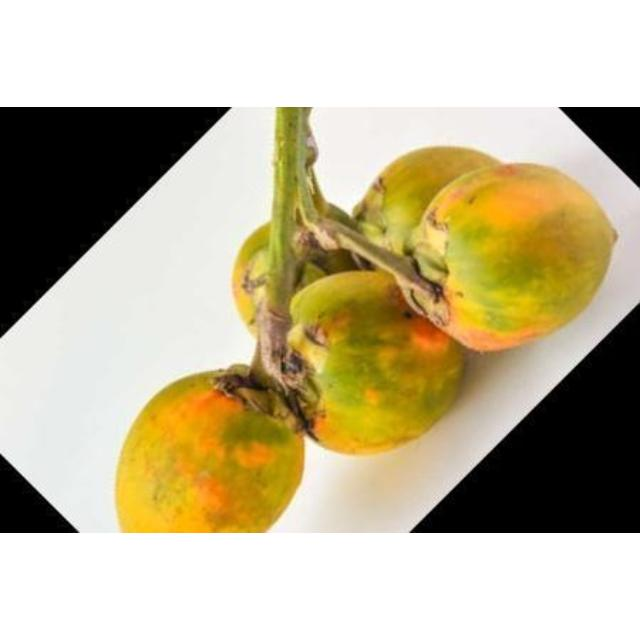good: (314, 148, 619, 354), (284, 269, 465, 458), (114, 370, 306, 532)
